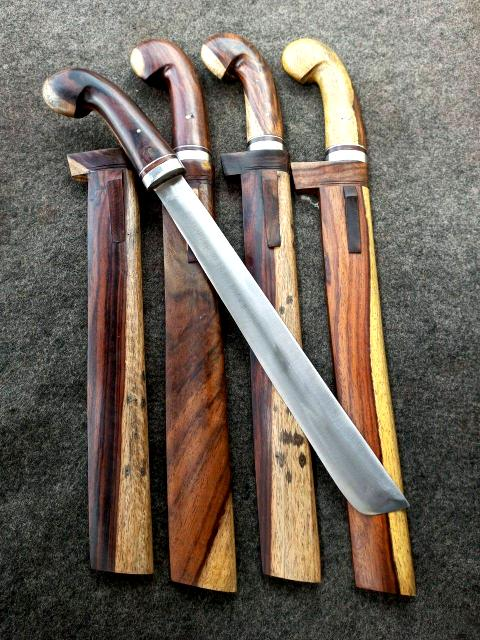long knife: (40, 68, 410, 516), (280, 38, 418, 596), (199, 31, 322, 583), (128, 38, 240, 594)
